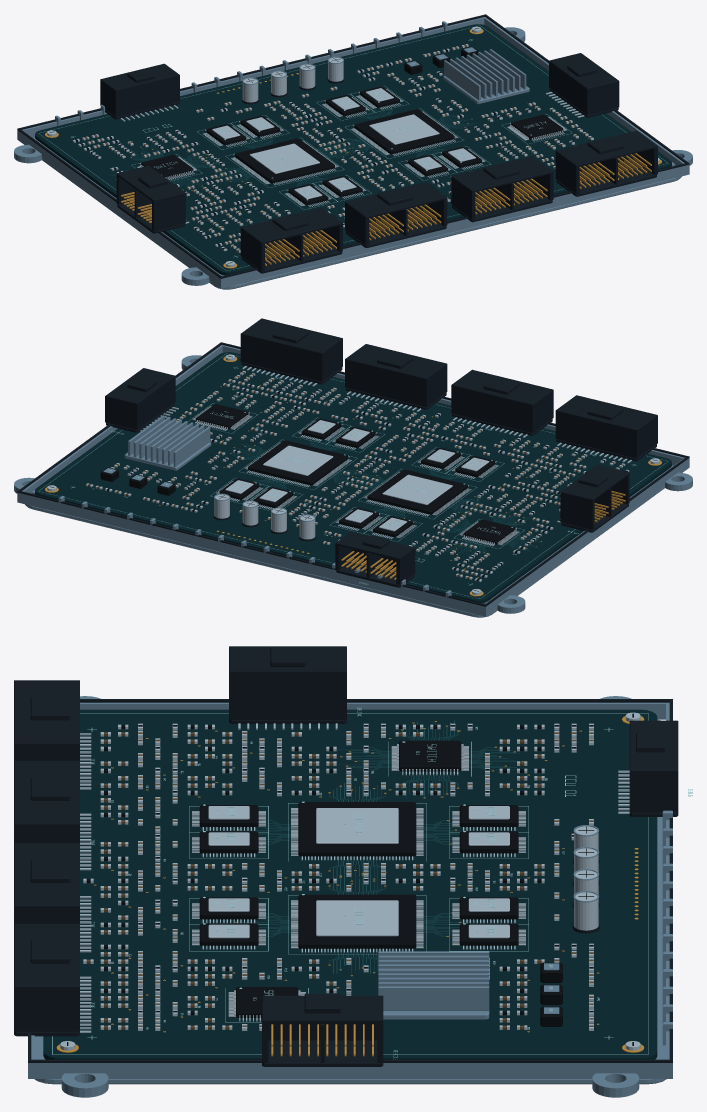
Rendered from CCU.obj.
3 renders of one model, top to bottom at view 1: azimuth 30°, elevation 25°; view 2: azimuth 150°, elevation 25°; view 3: azimuth 270°, elevation 25°, orthographic. The views are drawn at different scales.
Parts seen in each view (by area): view 1: pcb_substrate_0001, chassis_rim_0001, chassis_backplate_0001, chassis_rim_0003, connector_back_0007, chassis_rim_0002, chip_substrate_0006, chip_substrate_0001, connector_top_0001, connector_top_0002, connector_top_0003, connector_top_0004 (+27 smaller); view 2: pcb_substrate_0001, chassis_rim_0002, connector_back_0004, connector_back_0003, connector_back_0001, connector_back_0002, chassis_backplate_0001, chassis_rim_0003, chip_substrate_0001, chip_substrate_0006, connector_top_0002, connector_top_0004 (+25 smaller); view 3: pcb_substrate_0001, chassis_rim_0004, connector_back_0005, chassis_backplate_0001, chassis_rim_0003, chip_substrate_0006, chip_substrate_0001, connector_top_0003, connector_top_0001, connector_top_0002, chip_heatspreader_0006, connector_top_0004 (+36 smaller).
Part boxes in pixels (x1,y1,x2,y2): pcb_substrate_0001: [35, 24, 671, 275]; chassis_rim_0001: [219, 164, 689, 288]; chassis_backplate_0001: [34, 137, 681, 289]; chassis_rim_0003: [19, 130, 221, 286]; connector_back_0007: [113, 73, 179, 116]; chassis_rim_0002: [17, 17, 485, 140]; chip_substrate_0006: [354, 109, 454, 154]; chip_substrate_0001: [234, 138, 334, 183]; connector_top_0001: [241, 207, 342, 243]; connector_top_0002: [345, 182, 447, 218]; connector_top_0003: [451, 158, 553, 192]; connector_top_0004: [556, 132, 657, 167]; pcb_substrate_0001: [35, 352, 671, 603]; chassis_rim_0002: [17, 492, 487, 616]; connector_back_0004: [240, 332, 323, 381]; connector_back_0003: [345, 357, 427, 406]; connector_back_0001: [555, 409, 638, 458]; connector_back_0002: [451, 384, 533, 432]; chassis_backplate_0001: [25, 465, 672, 617]; chassis_rim_0003: [485, 458, 687, 614]; chip_substrate_0001: [367, 469, 467, 514]; chip_substrate_0006: [248, 440, 348, 485]; connector_top_0002: [451, 369, 553, 405]; connector_top_0004: [241, 318, 342, 354]; pcb_substrate_0001: [43, 709, 657, 1059]; chassis_rim_0004: [34, 1063, 665, 1078]; connector_back_0005: [229, 668, 346, 719]; chassis_backplate_0001: [34, 719, 666, 1084]; chassis_rim_0003: [80, 702, 665, 719]; chip_substrate_0006: [298, 894, 416, 948]; chip_substrate_0001: [298, 802, 416, 856]; connector_top_0003: [14, 843, 79, 908]; connector_top_0001: [14, 680, 79, 745]; connector_top_0002: [14, 760, 79, 824]; chip_heatspreader_0006: [316, 900, 398, 936]; connector_top_0004: [14, 923, 79, 989].
Size of the model in its own units: 268 by 25.6 by 196.
